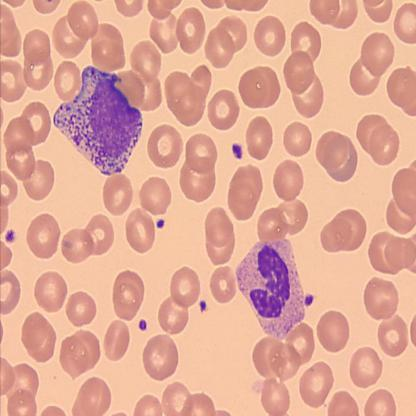Myelocyte: (53, 61, 142, 176), (236, 241, 304, 335)
